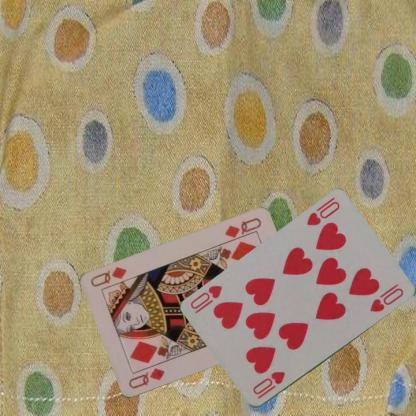10h: (250, 369, 287, 401), (304, 198, 341, 228)
Qd: (222, 215, 262, 245), (125, 366, 166, 390)
